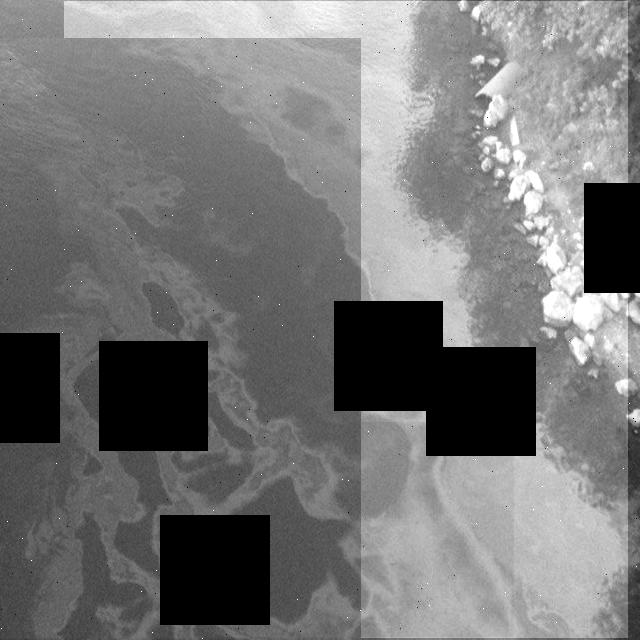oil spill: (64, 1, 628, 638), (0, 39, 361, 638), (341, 422, 514, 637)
